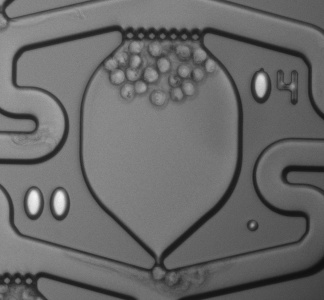AptNum: (245, 63, 305, 111)
Marker: (242, 215, 264, 236)
StNum: (15, 177, 79, 228)
Trap: (130, 257, 187, 300)
